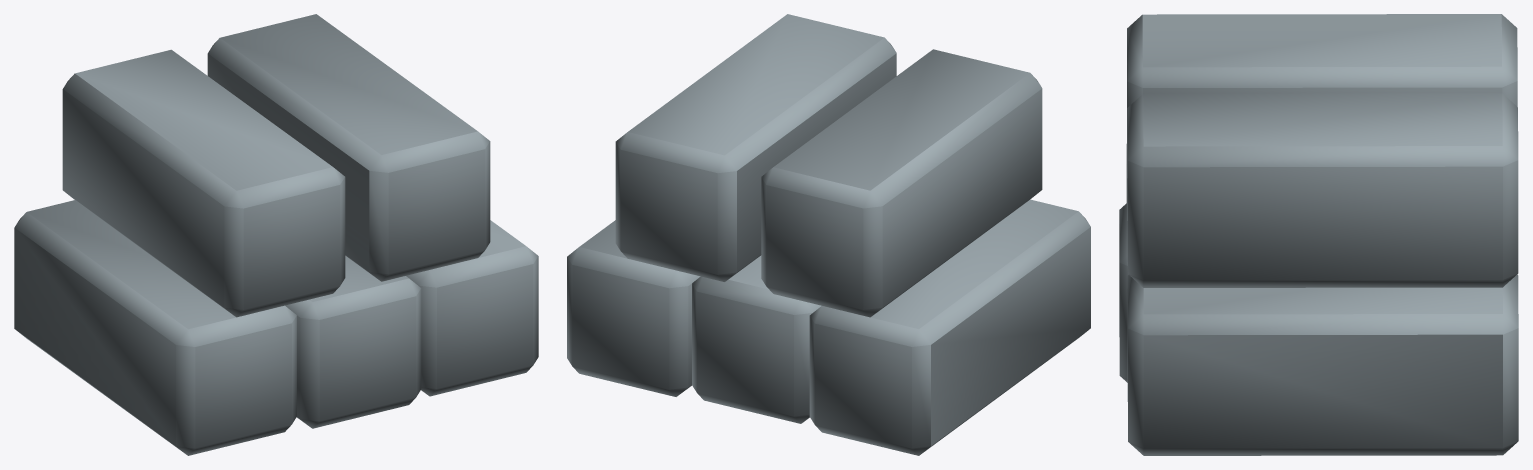
The model's file is resource_stone.gltf.
The picture shows the model from 3 angles, left to right: view 1: azimuth 30°, elevation 25°; view 2: azimuth 150°, elevation 25°; view 3: azimuth 270°, elevation 25°; orthographic projection. The views are drawn at different scales.
Visible parts, largest first — view 1: resource_stone; view 2: resource_stone; view 3: resource_stone.
Boxes of the visible parts, bbox=[...] form: resource_stone: bbox=[14, 14, 538, 455]; resource_stone: bbox=[567, 14, 1090, 455]; resource_stone: bbox=[1119, 14, 1518, 455].
Size of the model in its own units: 0.4211 by 0.28 by 0.3579.
1 material, 1 textured.
